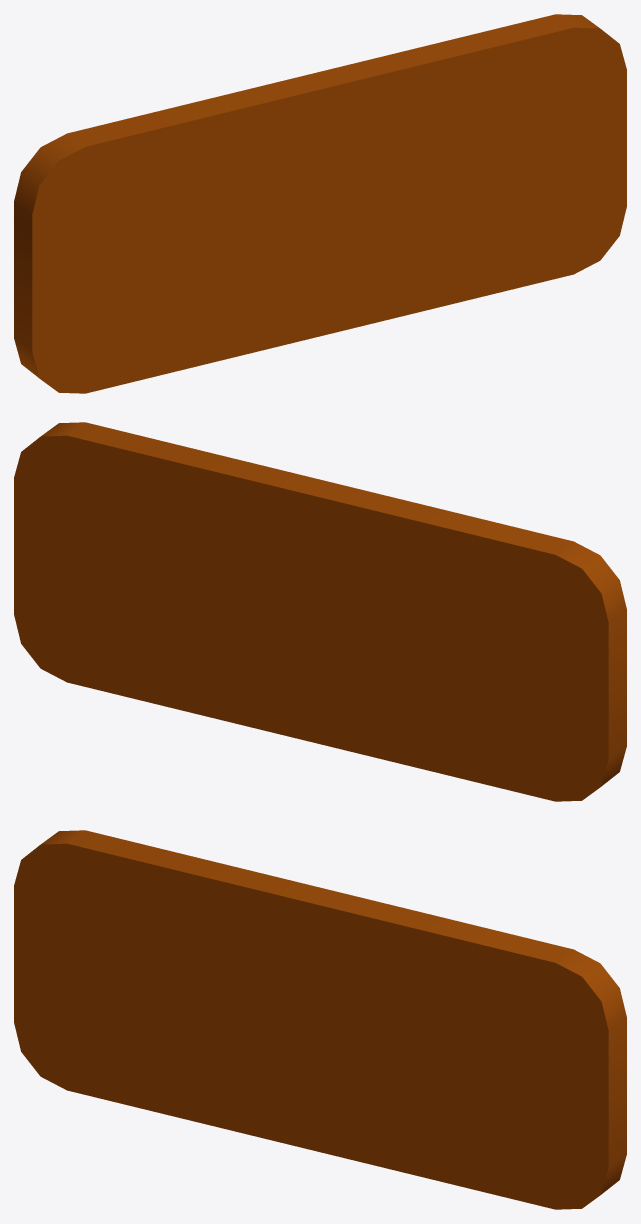
Rendered from obj_panel_base.gltf.
3 renders of one model, top to bottom at view 1: azimuth 30°, elevation 25°; view 2: azimuth 150°, elevation 25°; view 3: azimuth 330°, elevation 25°, orthographic.
Visible parts, largest first — view 1: obj_panel_base; view 2: obj_panel_base; view 3: obj_panel_base.
Boxes of the visible parts, bbox=[...] form: obj_panel_base: bbox=[14, 14, 626, 393]; obj_panel_base: bbox=[14, 422, 626, 801]; obj_panel_base: bbox=[14, 830, 626, 1209].
Bounding box in the file's own units: 3.59 × 1.42 × 0.1911.
1 material, 1 textured.
